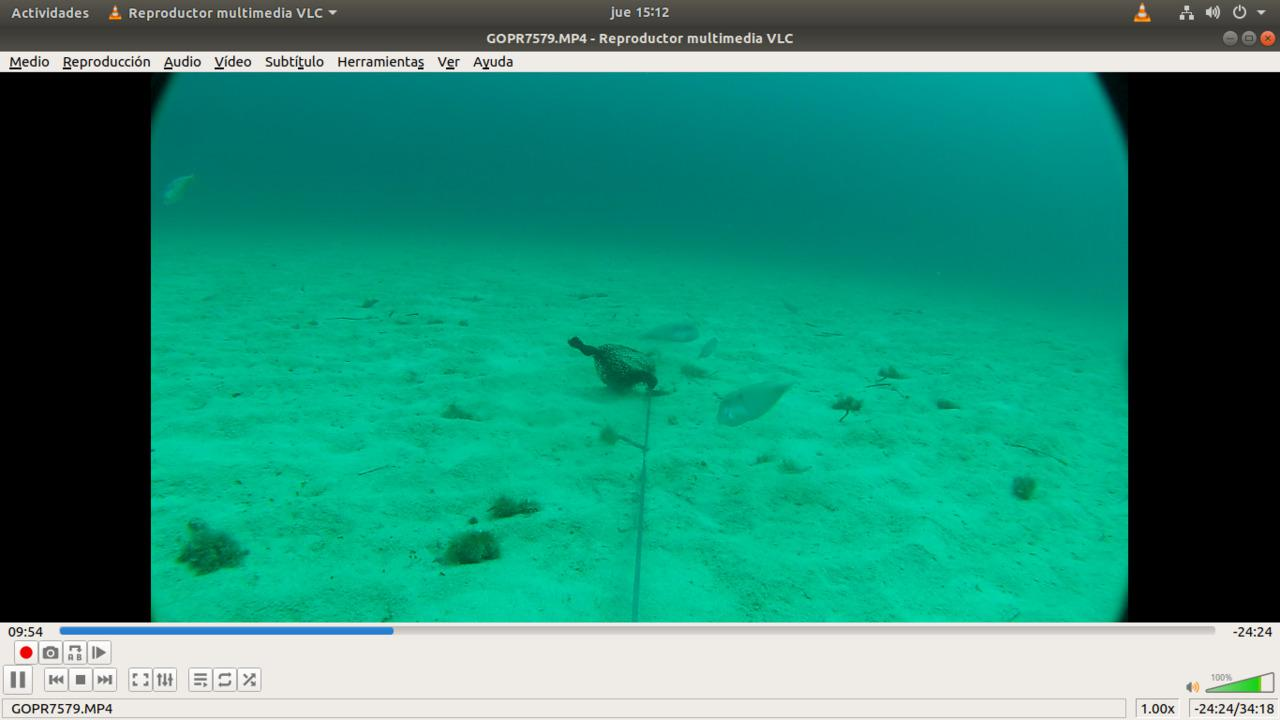raor: (705, 375, 802, 438), (641, 309, 707, 357), (163, 161, 203, 209)
